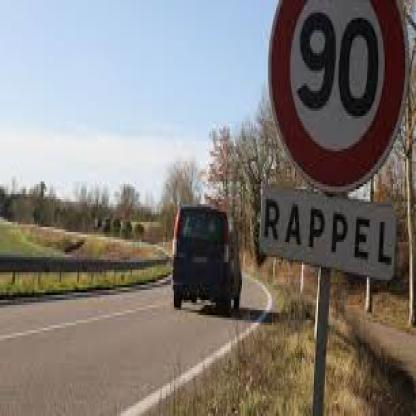Speed Limit 90: (273, 0, 408, 188)
